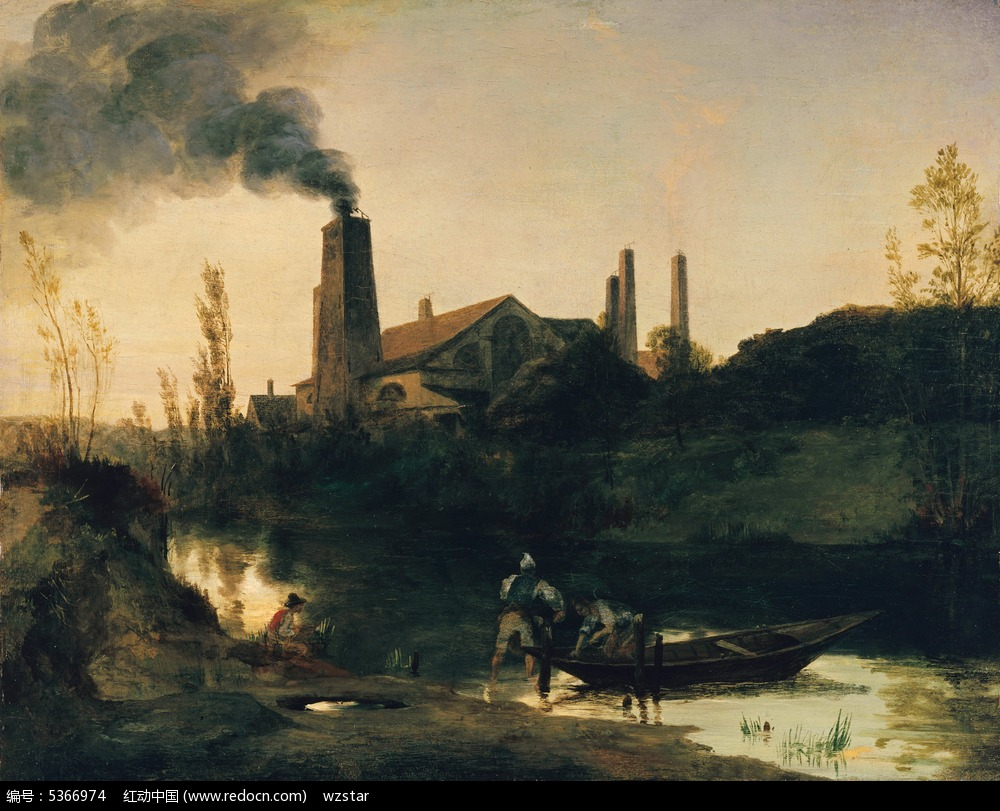dust: (44, 7, 394, 221)
